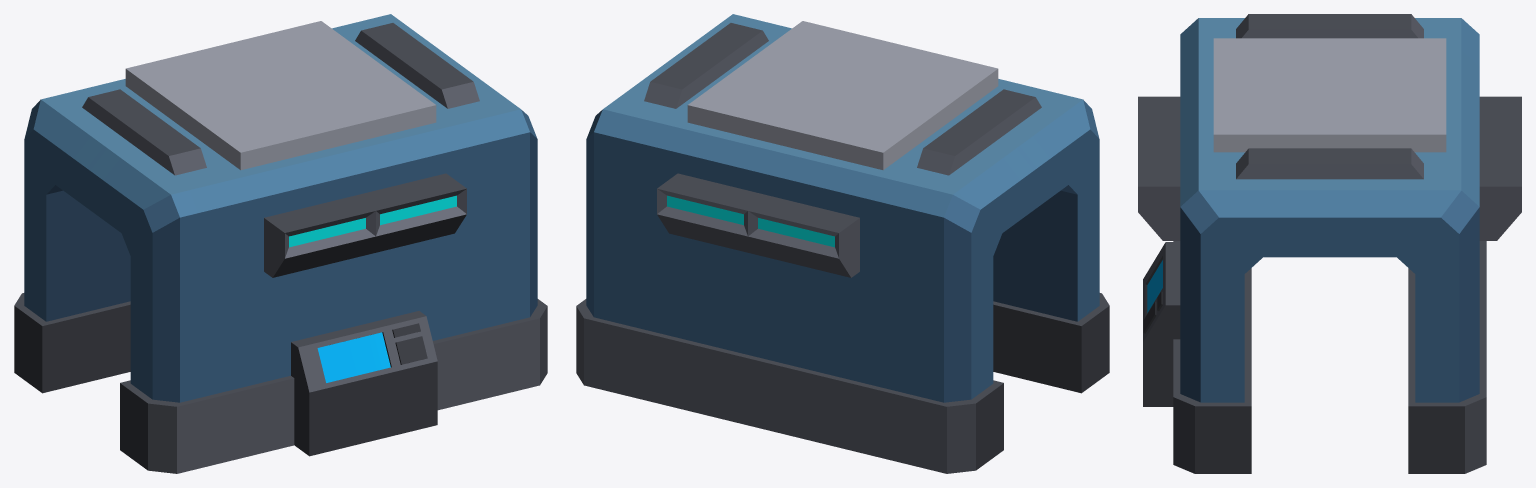
Rendered from NF_Machine_00_B.fbx.
3 renders of one model, left to right at view 1: azimuth 30°, elevation 25°; view 2: azimuth 150°, elevation 25°; view 3: azimuth 270°, elevation 25°, orthographic.
Parts seen in each view (by area): view 1: NF_Machine_00_B; view 2: NF_Machine_00_B; view 3: NF_Machine_00_B.
Part boxes in pixels (x1,y1,x2,y2): NF_Machine_00_B: (14,14,547,473); NF_Machine_00_B: (576,14,1109,473); NF_Machine_00_B: (1138,14,1521,473).
Size of the model in its own units: 3.11 by 2.13 by 2.56.
1 material, 1 textured.
